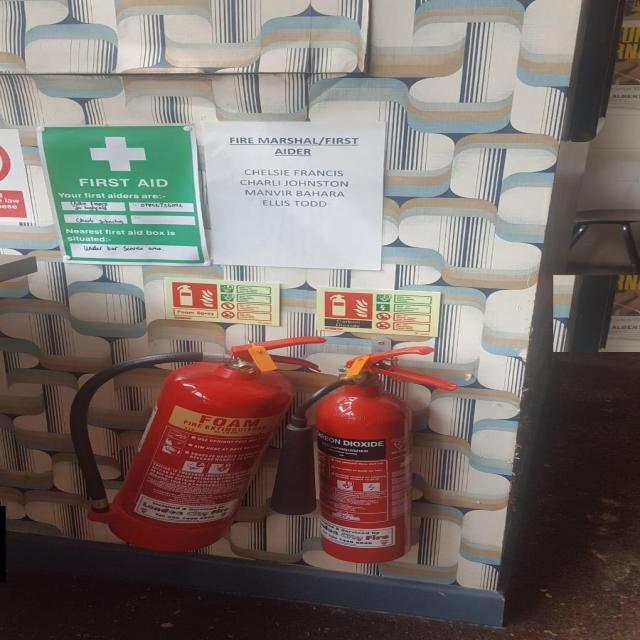fire_extinguisher: (66, 333, 334, 554), (267, 343, 460, 566)
